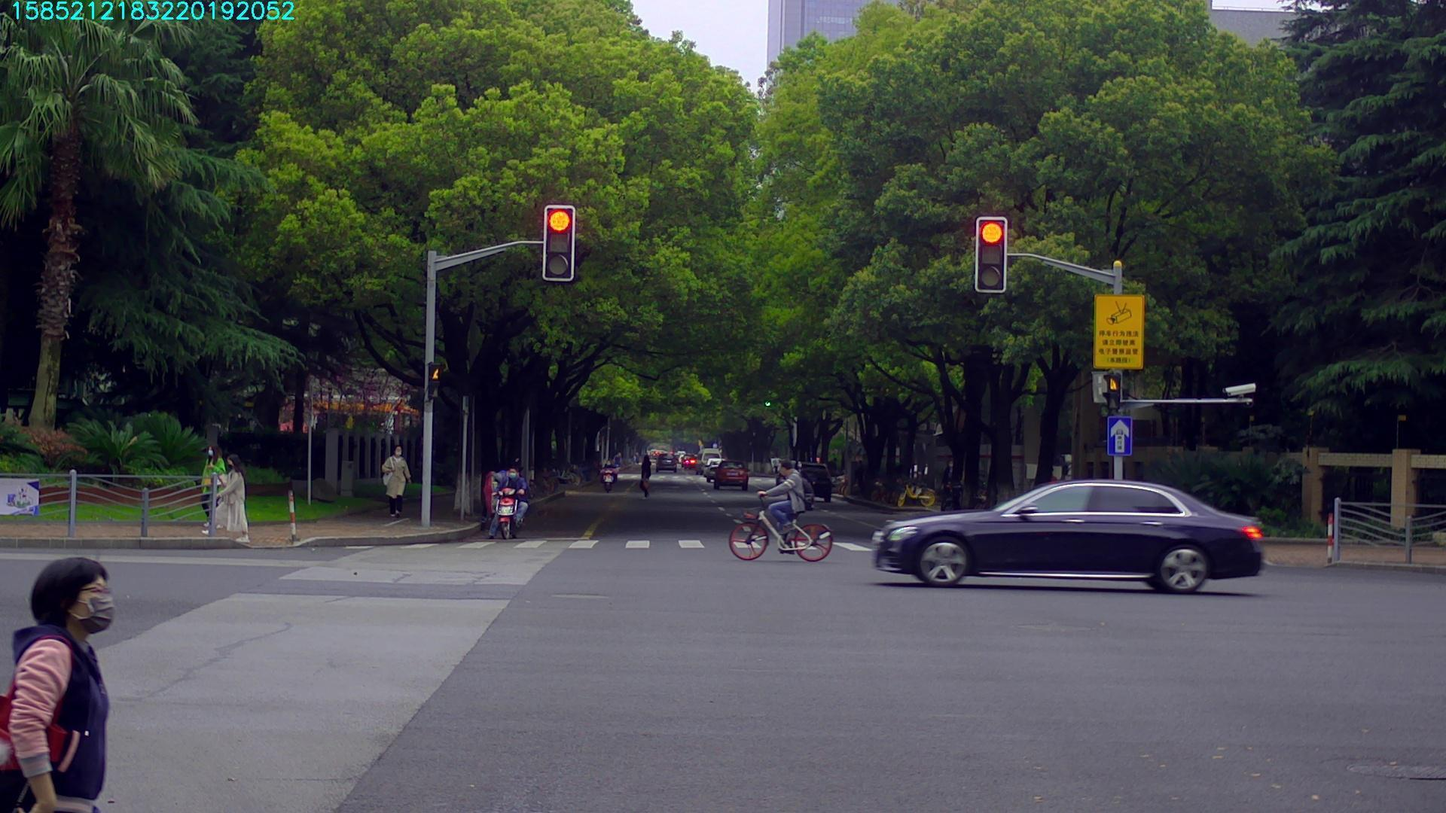red: (977, 218, 1005, 291), (545, 206, 572, 279)
